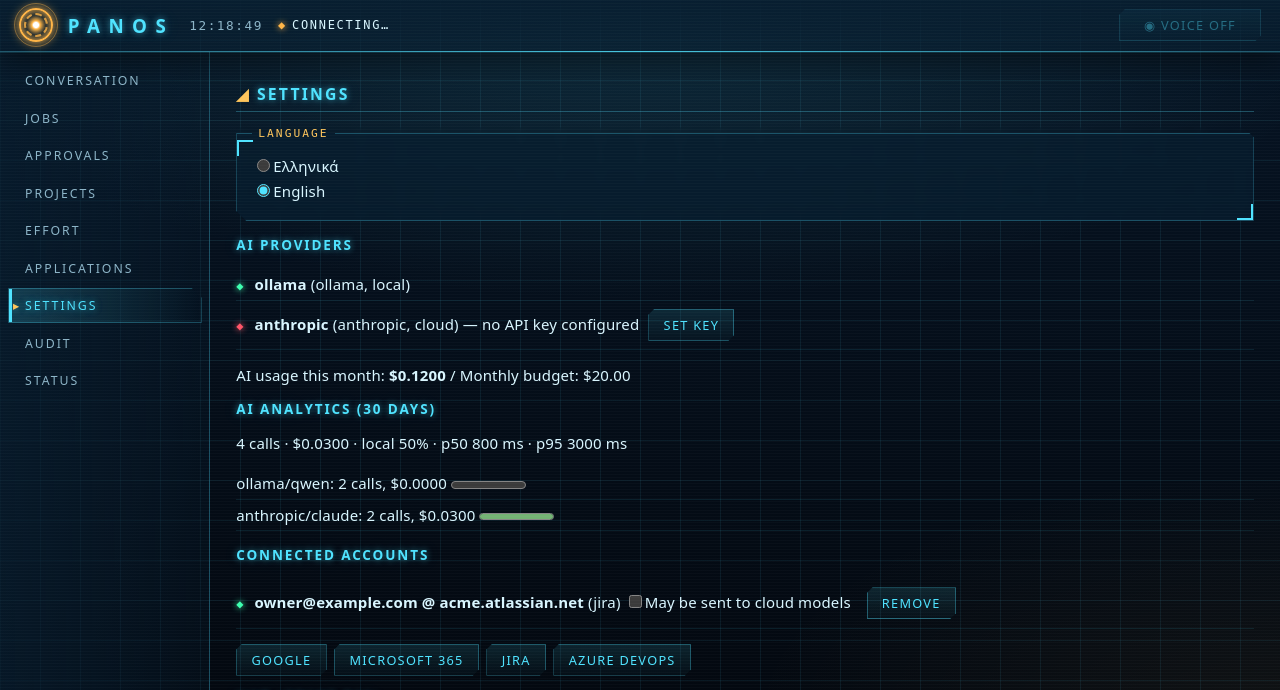
Test case: [BR-001] [FR-002] connections, knowledge and exports (M8-07) › asks for the OAuth client first, then shows the Microsoft device code
The image size is (1280, 690).
Click the button "Microsoft 365". click: (407, 660)
box: [334,644,479,676]
(page scrolled)
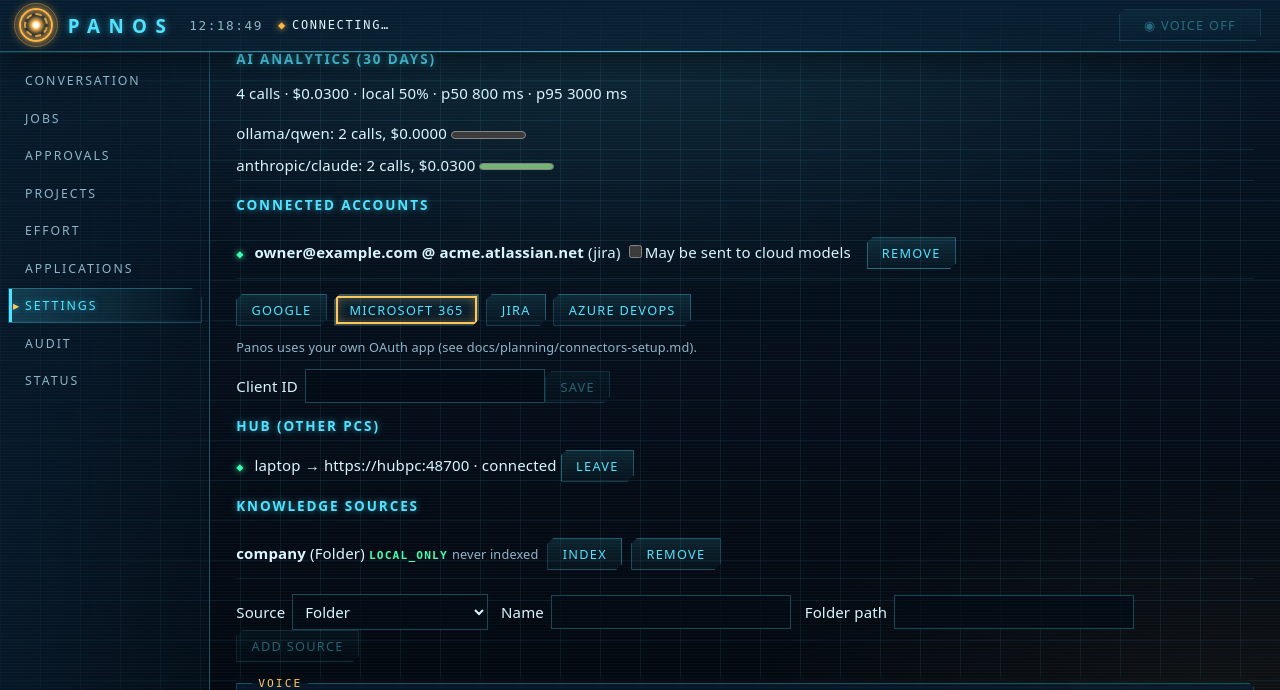
Type "app-1" into the field labelled "Client ID". click: (425, 386)
box: [305,369,545,403]
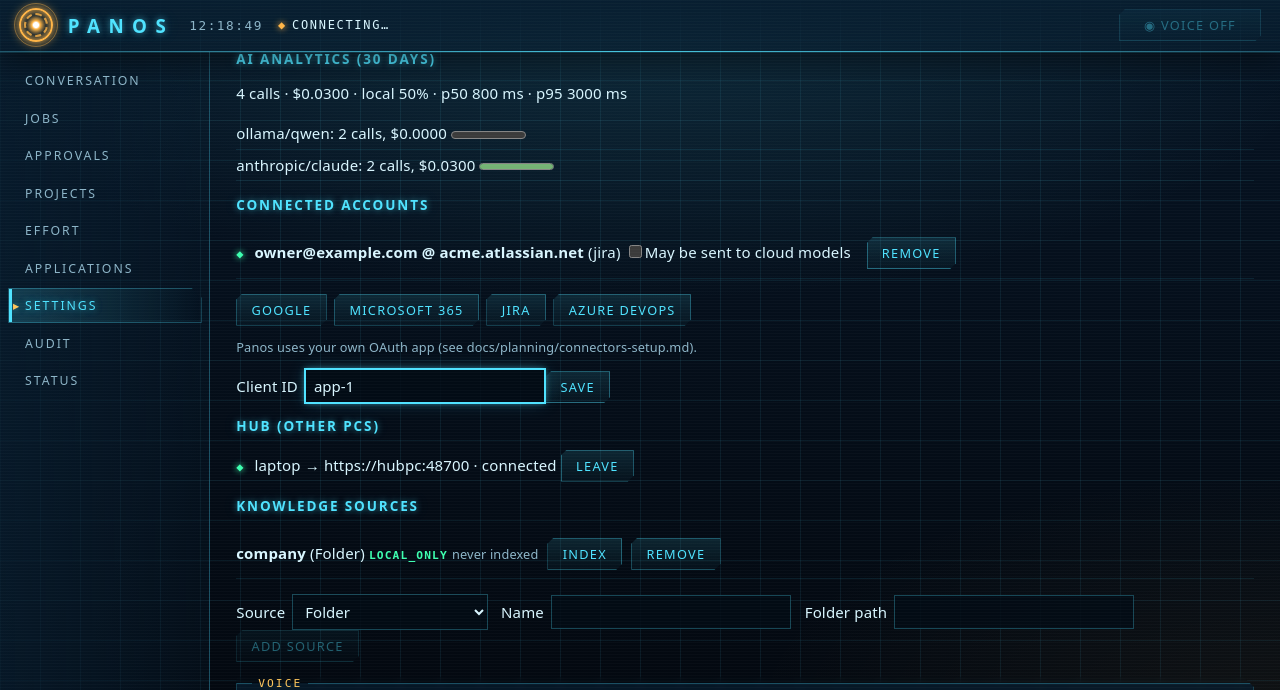
Click the button "Save". click: (578, 387)
box: [545,371,610,403]
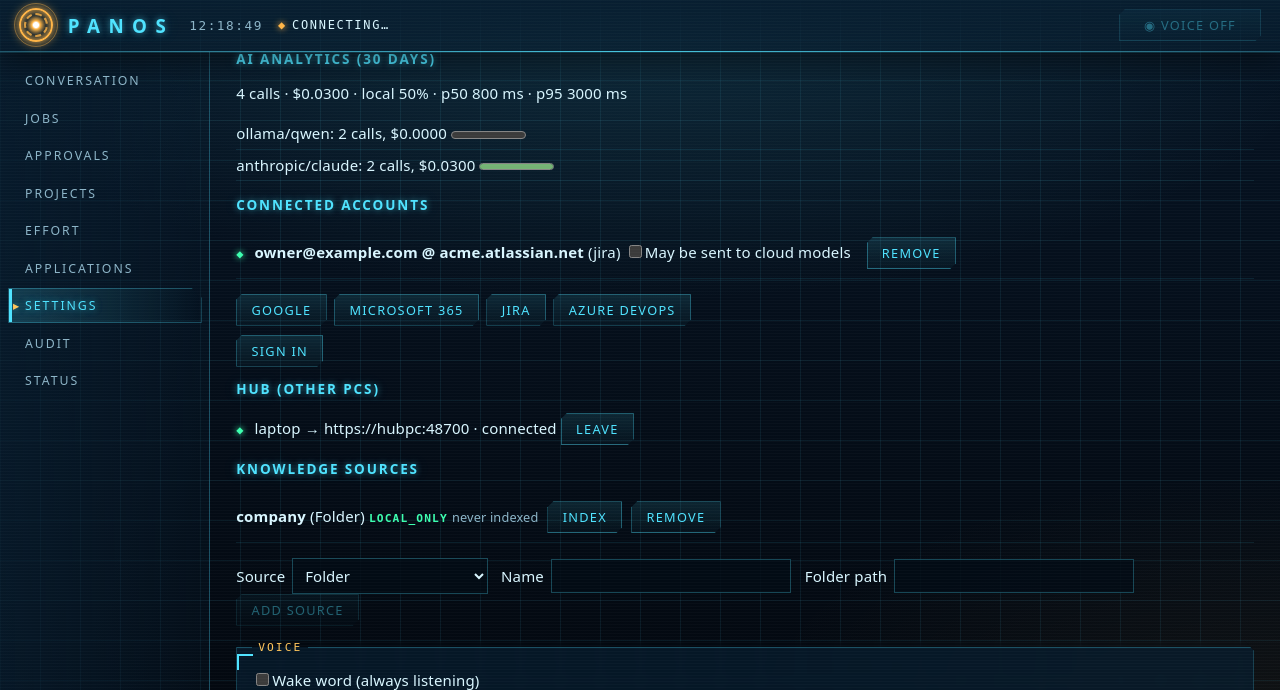
Click the button "Sign in". click: (280, 351)
box: [236,335,323,367]
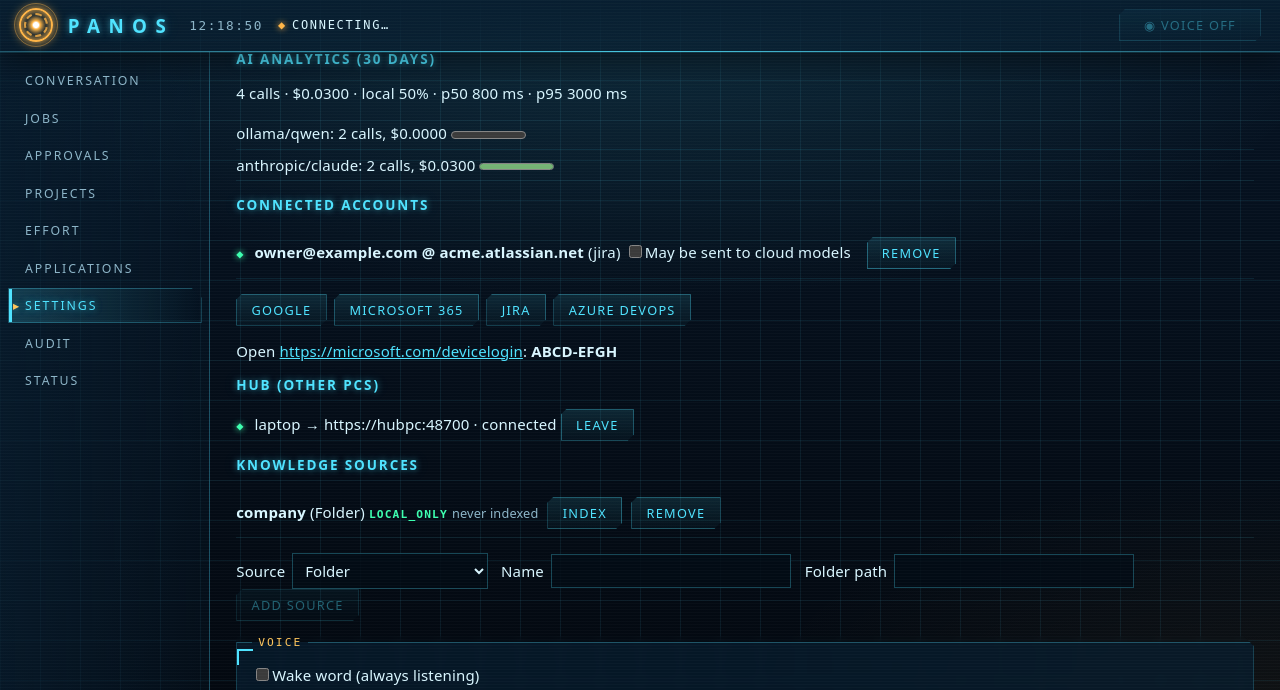
Result: the text "ABCD-EFGH" is shown at [531,341,617,361]
